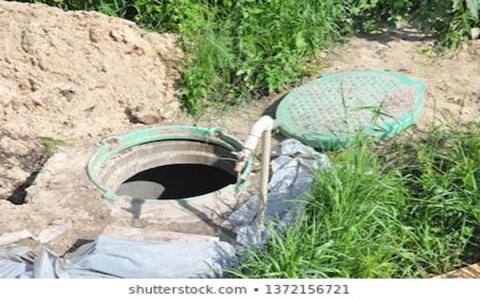open manhole: (84, 121, 258, 217)
